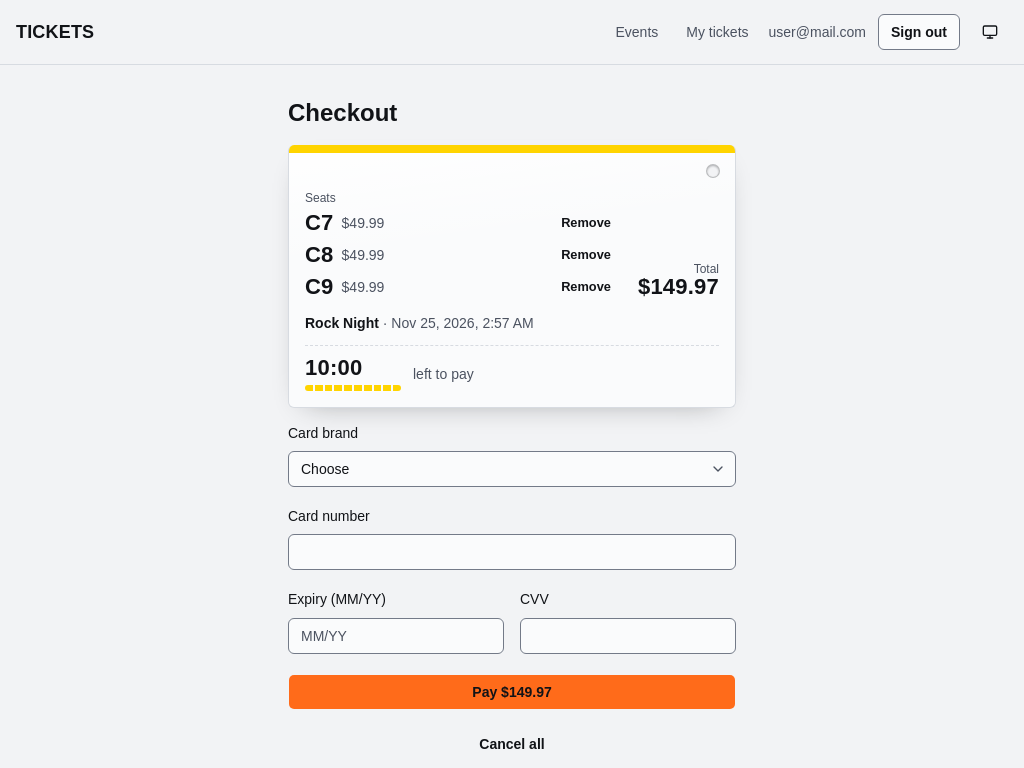
group checkout: paying › pays three reservations with one request and confirms every ticket
This screenshot has width=1024, height=768.
Select "VISA" in the dropdown labelled "Card brand" at x=512, y=469, box [288,451,736,487]
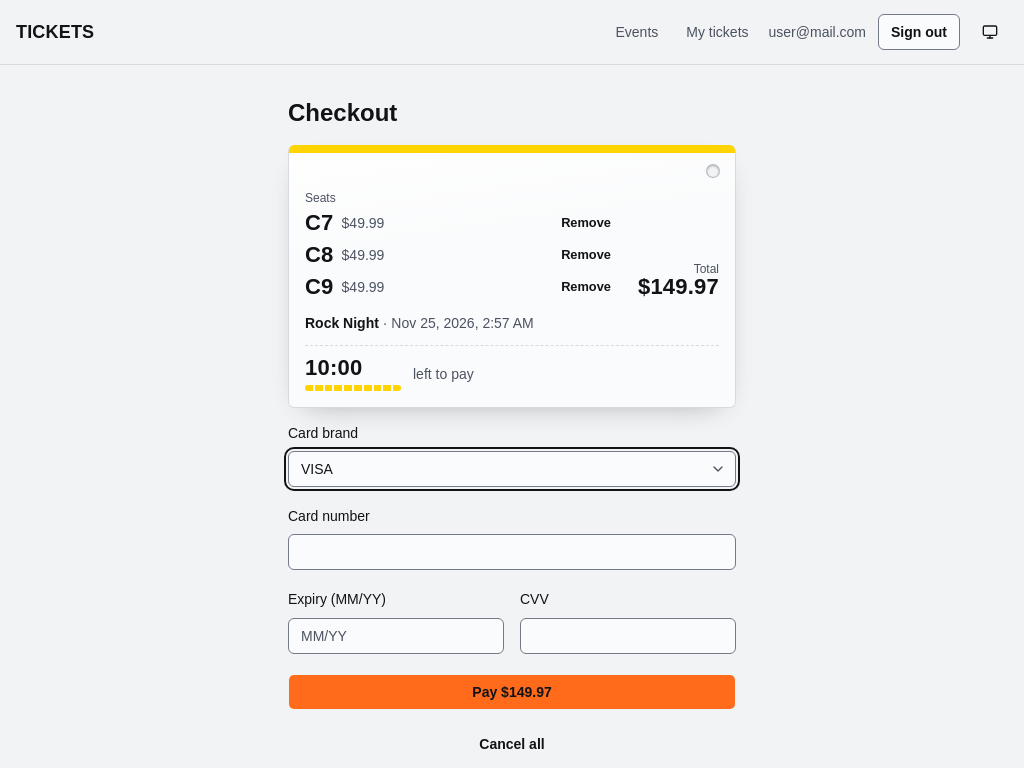
Type "4111111111111111" into the field labelled "Card number" at x=512, y=552, box [288,534,736,570]
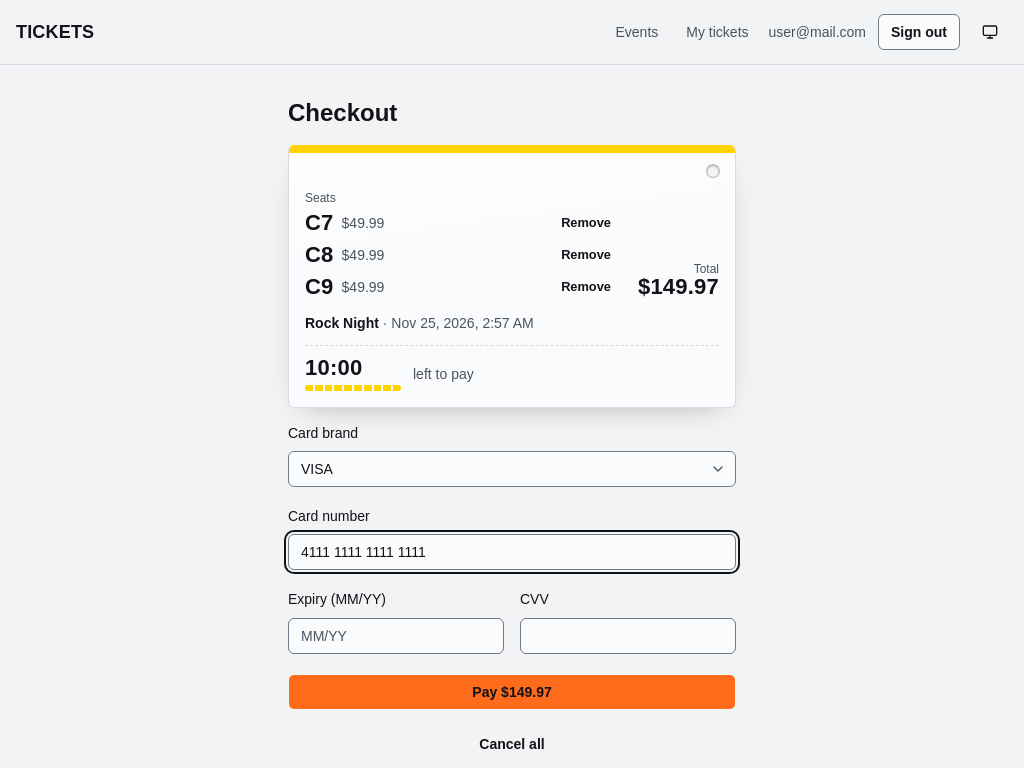
Type "1299" into the field labelled "Expiry (MM/YY)" at x=396, y=636, box [288,618,504,654]
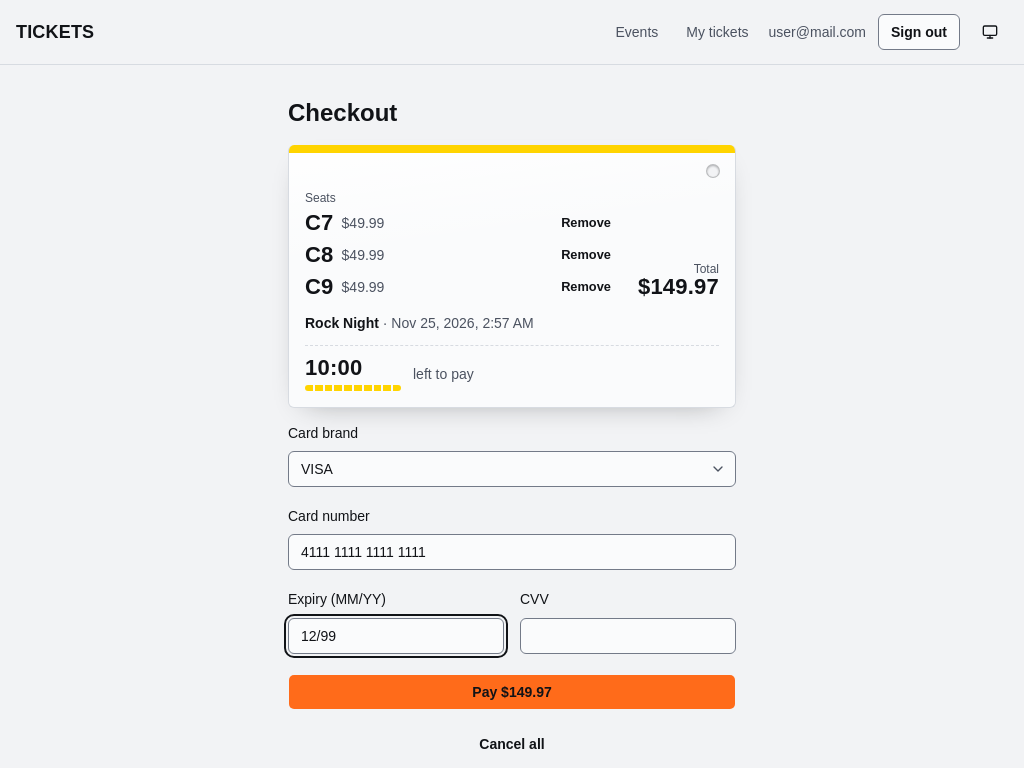
Type "123" into the field labelled "CVV" at x=628, y=636, box [520,618,736,654]
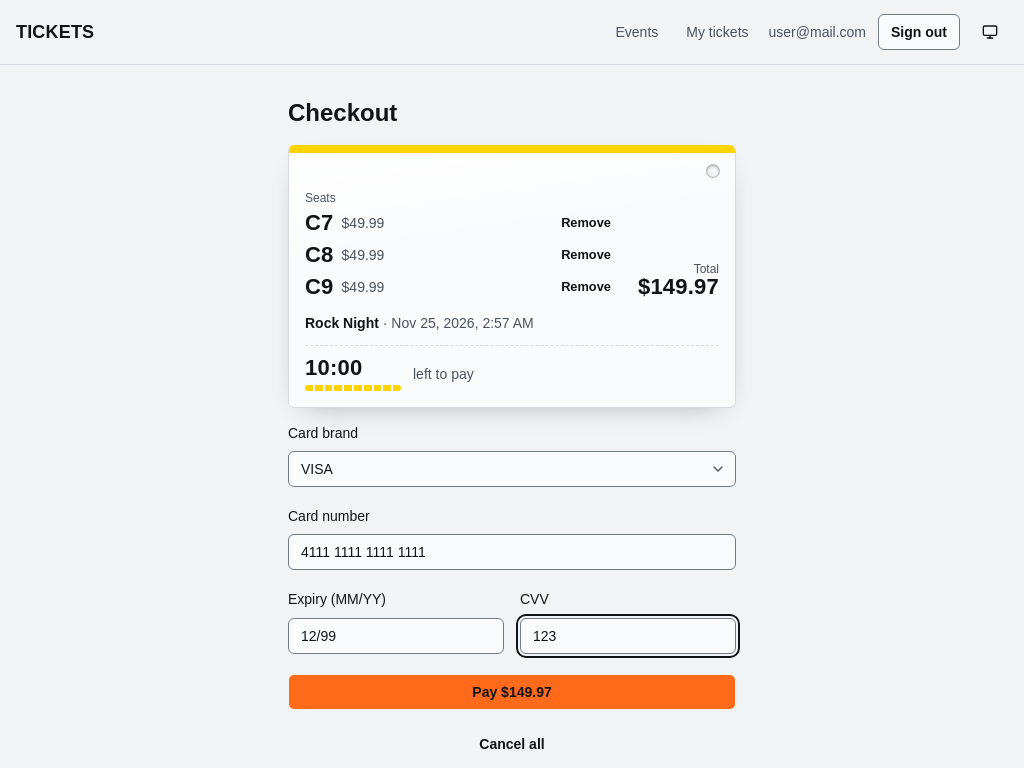
Click the button "Pay $149.97" at x=512, y=692, box [288,674,736,710]
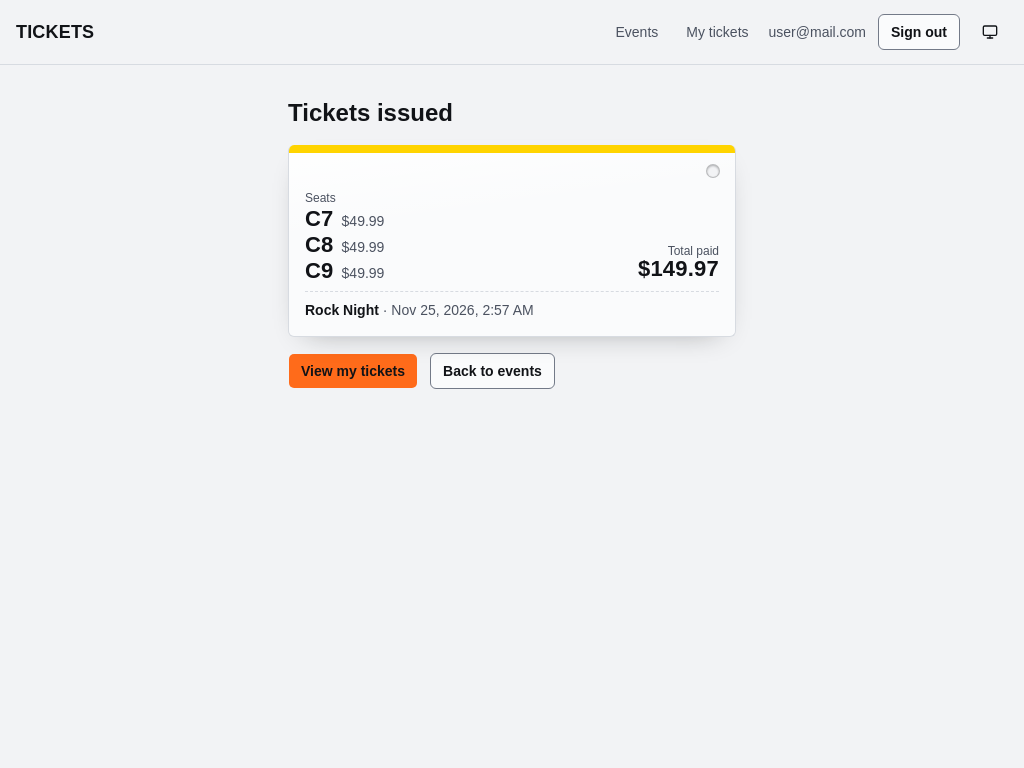
Expected: the text "C7" is shown, [305,209,334,230]
Now the heading "Tickets issued" is shown, box [288,99,453,126]
